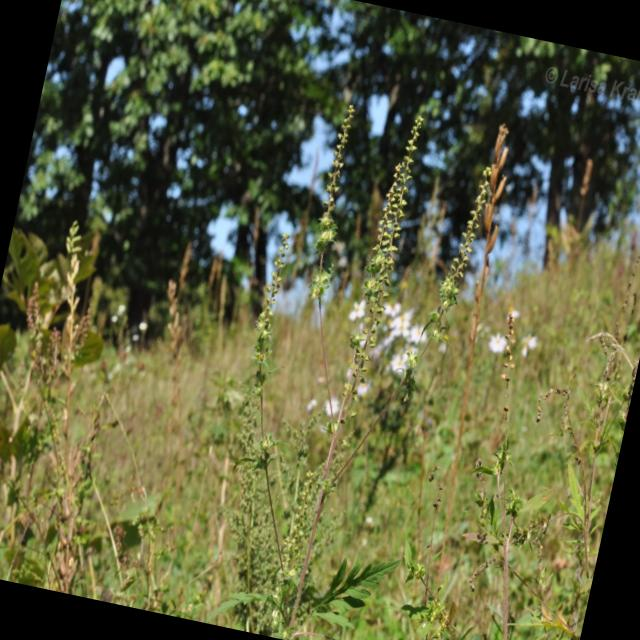ambrosia: (282, 80, 442, 604), (182, 276, 338, 624), (402, 100, 554, 370), (275, 76, 366, 332)
